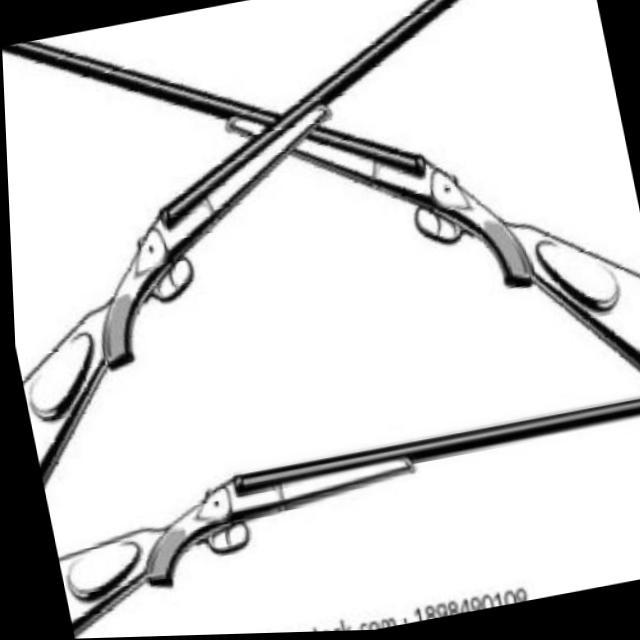weapon: (0, 0, 640, 500), (39, 392, 640, 640)
